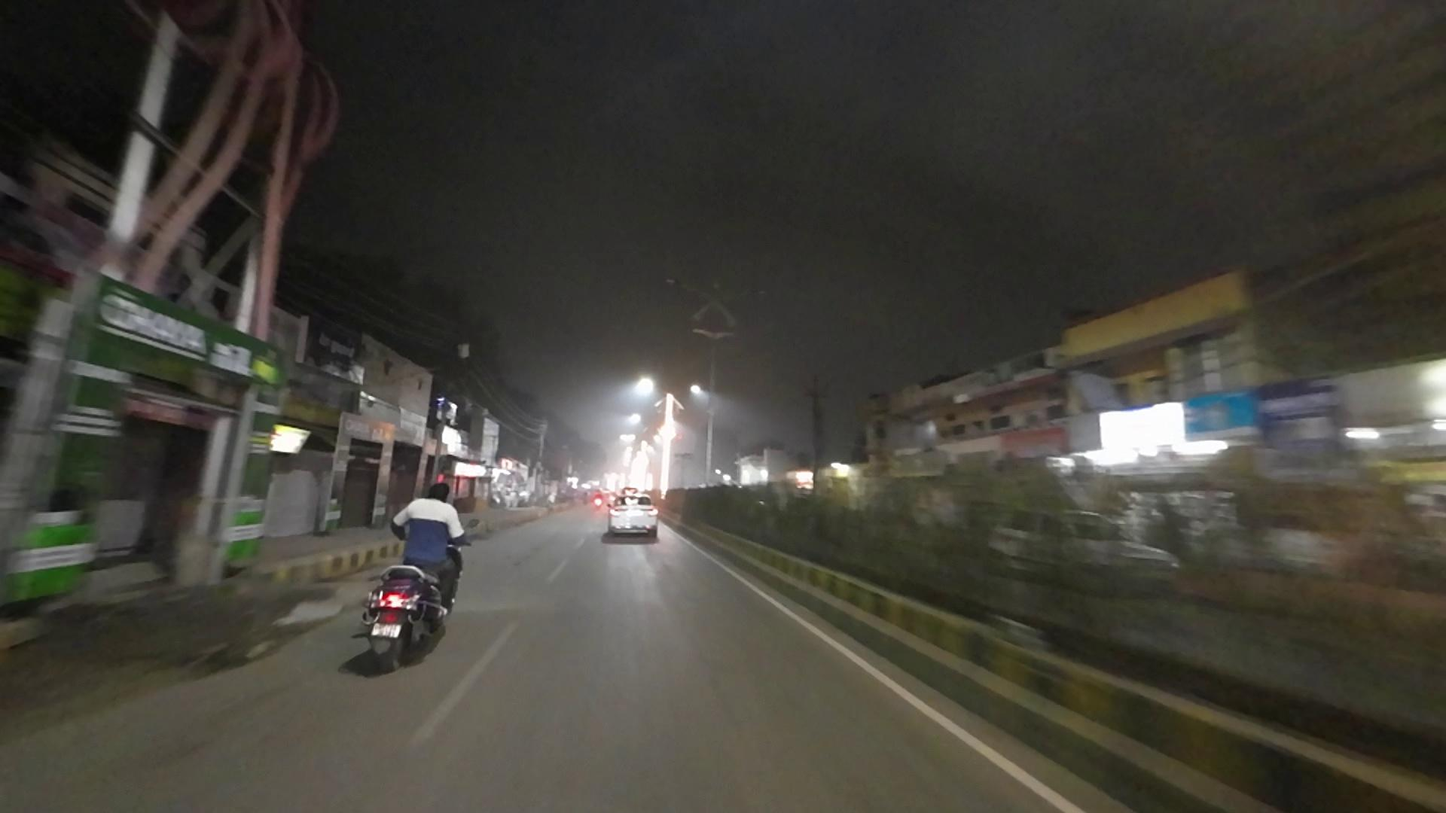streetlight: (664, 274, 712, 303), (723, 287, 767, 302)
